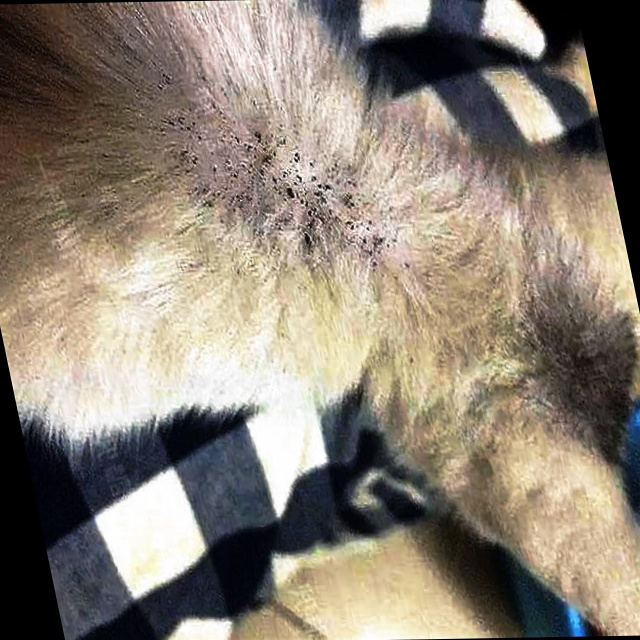acne: (150, 103, 404, 282)
